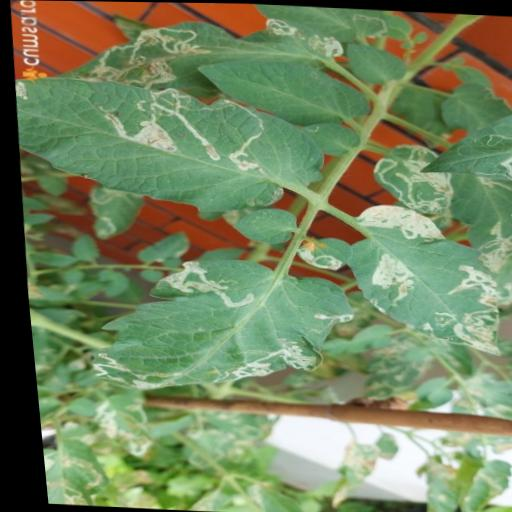Leaf_Miner: (8, 74, 326, 219), (63, 250, 355, 395), (53, 6, 348, 107), (332, 202, 503, 359), (408, 100, 512, 180), (440, 166, 512, 271), (362, 140, 454, 217), (258, 3, 418, 47), (33, 437, 100, 506), (79, 183, 146, 241), (288, 234, 348, 269)
